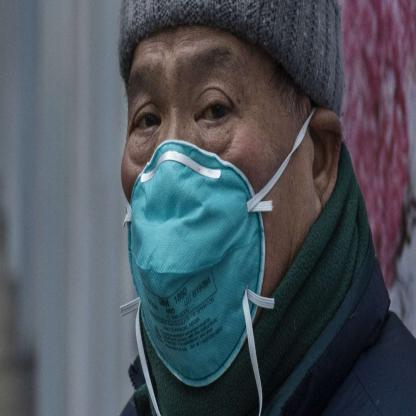Wearing_Mask: (122, 34, 306, 339)
